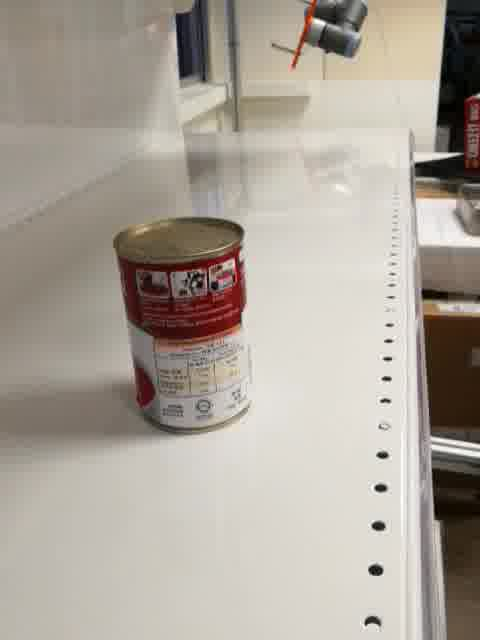tomatosoup: (112, 215, 256, 436)
